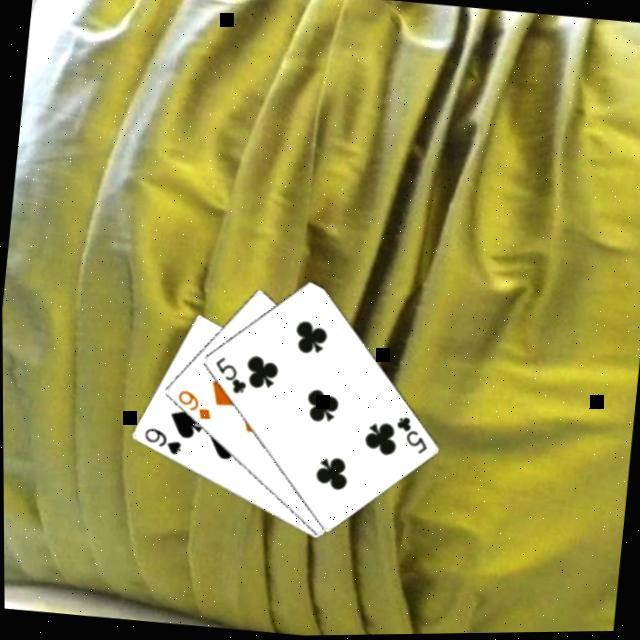5C: (206, 351, 249, 398), (388, 412, 431, 458)
9D: (170, 385, 214, 423)
9S: (136, 422, 184, 458)
